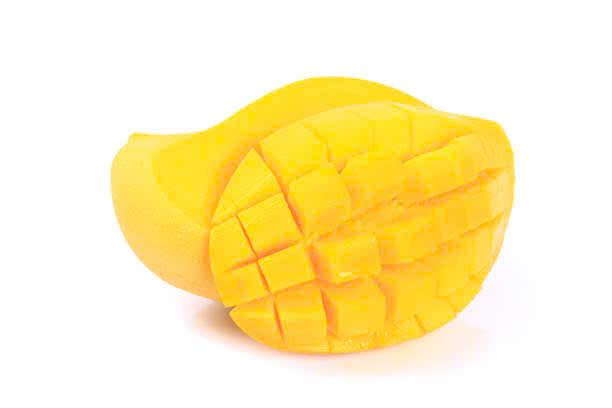mango: (98, 82, 520, 364), (216, 119, 515, 350)
